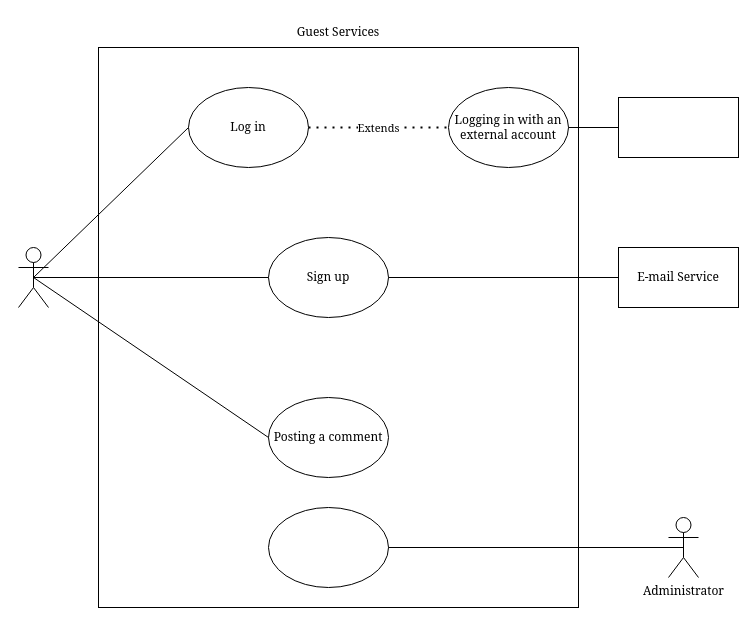
Some shapes in this 756 by 625 pixel diagram are drawn without their labels. The centre of each missing label's shape, as x and y in pixels:
External Websites: the point at 678,127
Guest: the point at 33,277
Reviewing a comment: the point at 328,547
